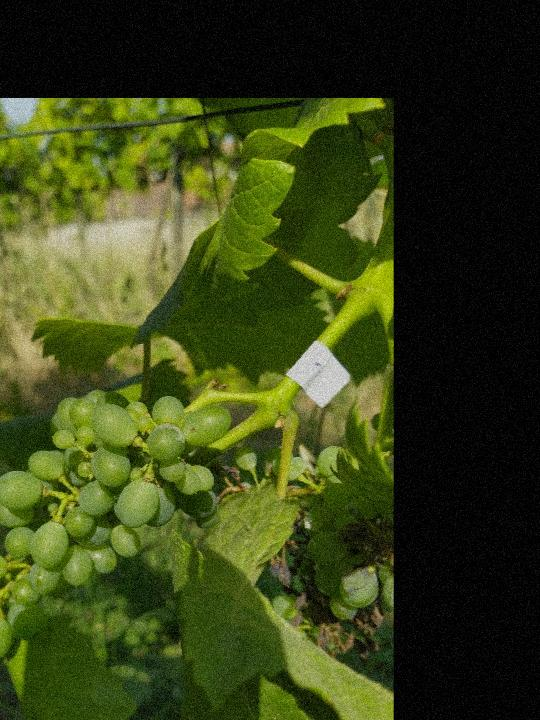grape: (0, 384, 259, 669)
